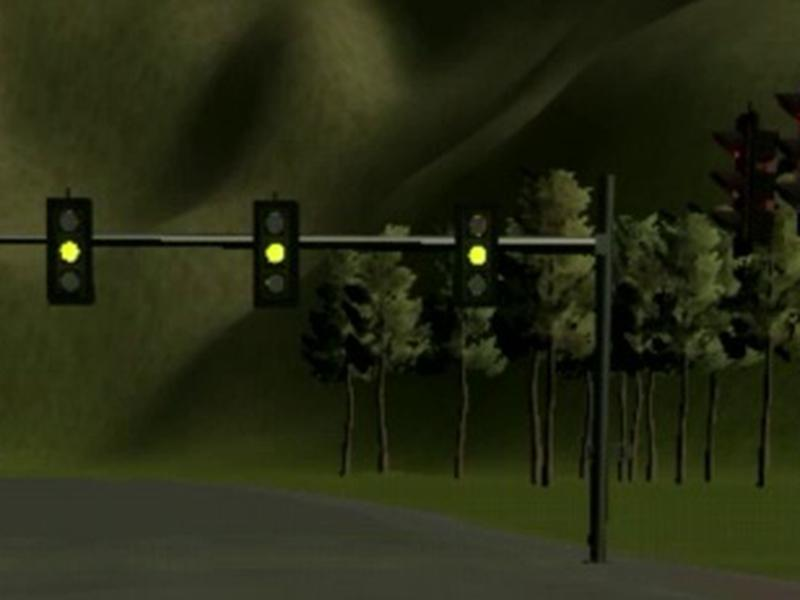Yellow: (46, 197, 96, 305), (252, 200, 300, 309), (456, 205, 500, 305)
